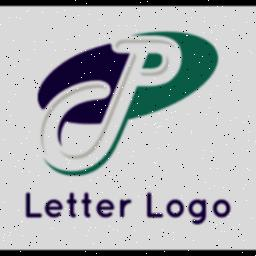l: (20, 191, 42, 221)
o: (166, 196, 186, 222)
p: (110, 32, 192, 164)
